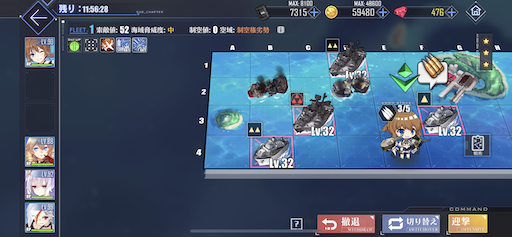lv1: (418, 93, 464, 136)
lv2: (249, 124, 293, 168), (326, 38, 366, 74)
lv3: (290, 93, 333, 134)
